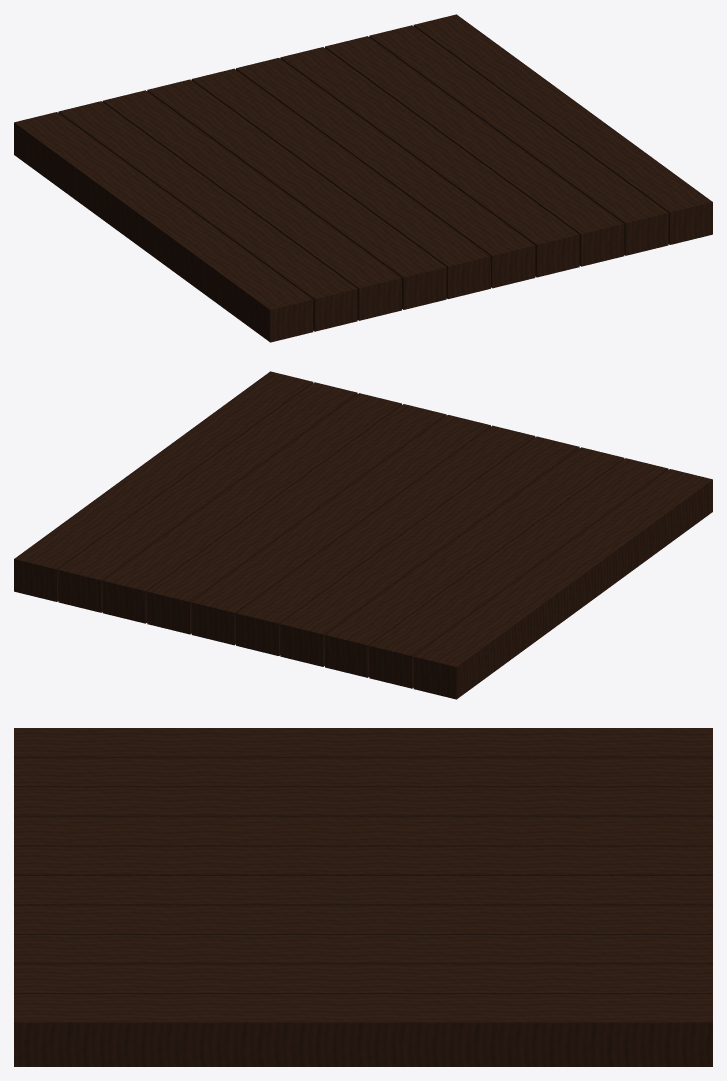
The model's file is module_floor_2m.glb.
3 renders of one model, top to bottom at view 1: azimuth 30°, elevation 25°; view 2: azimuth 150°, elevation 25°; view 3: azimuth 270°, elevation 25°, orthographic. The views are drawn at different scales.
Parts seen in each view (by area): view 1: floor_plank_00, floor_plank_07, floor_plank_06, floor_plank_01, floor_plank_02, floor_plank_03, floor_plank_05, floor_plank_04, floor_plank_08, floor_plank_09; view 2: floor_plank_00, floor_plank_07, floor_plank_06, floor_plank_01, floor_plank_02, floor_plank_03, floor_plank_05, floor_plank_04, floor_plank_08, floor_plank_09; view 3: floor_plank_09, floor_plank_01, floor_plank_03, floor_plank_00, floor_plank_02, floor_plank_04, floor_plank_05, floor_plank_06, floor_plank_07, floor_plank_08.
Part boxes in pixels (x1,y1,x2,y2): floor_plank_00: (14,112,313,342); floor_plank_07: (325,36,624,266); floor_plank_06: (280,47,579,277); floor_plank_01: (58,101,357,331); floor_plank_02: (102,90,401,320); floor_plank_03: (147,79,446,309); floor_plank_05: (236,58,535,288); floor_plank_04: (191,68,490,298); floor_plank_08: (369,25,668,255); floor_plank_09: (413,14,712,244); floor_plank_00: (413,469,712,699); floor_plank_07: (102,393,401,623); floor_plank_06: (147,404,446,634); floor_plank_01: (369,458,668,688); floor_plank_02: (325,447,624,677); floor_plank_03: (280,436,579,666); floor_plank_05: (191,415,490,645); floor_plank_04: (236,425,535,655); floor_plank_08: (58,382,357,612); floor_plank_09: (14,371,313,601); floor_plank_09: (14,994,712,1066); floor_plank_01: (14,757,712,787); floor_plank_03: (14,816,712,846); floor_plank_00: (14,728,712,757); floor_plank_02: (14,787,712,816); floor_plank_04: (14,846,712,875); floor_plank_05: (14,876,712,905); floor_plank_06: (14,905,712,934); floor_plank_07: (14,935,712,964); floor_plank_08: (14,964,712,993).
Bounding box in the file's own units: 1.99 × 0.14 × 2.
Materials: 1 (1 with a texture image).
